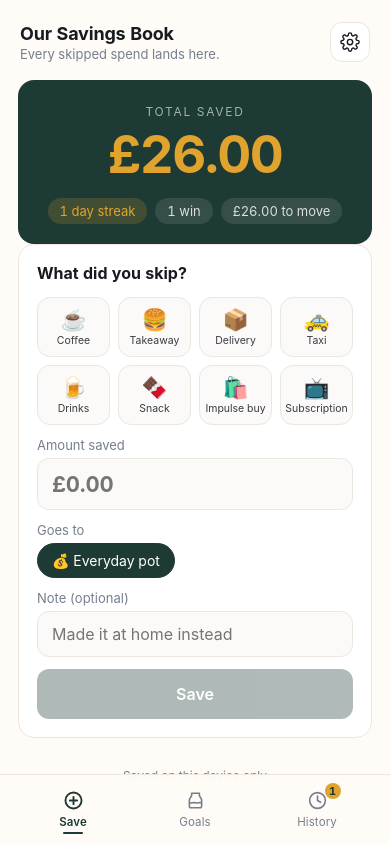
Test: gerçek aktarım › bekleyen tutar geçmiş sekmesinde görünür
Step 1. Click the text "History" → (317, 822), box [297, 815, 337, 829]
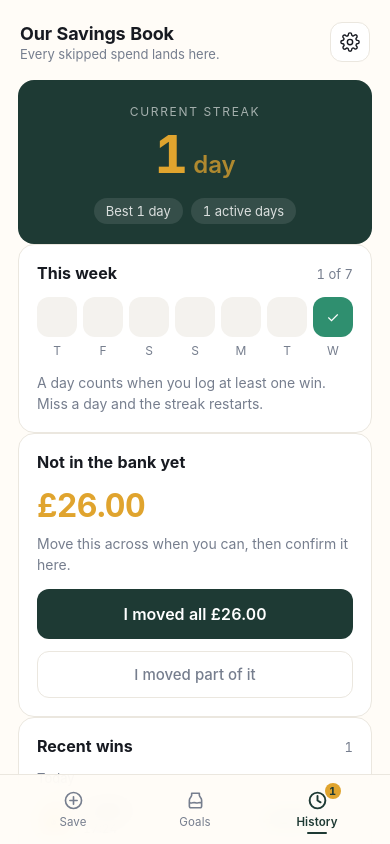
Now the heading "Not in the bank yet" is shown, box [37, 452, 185, 472]
Now the text "£26.00" is shown, box [37, 486, 145, 525]
